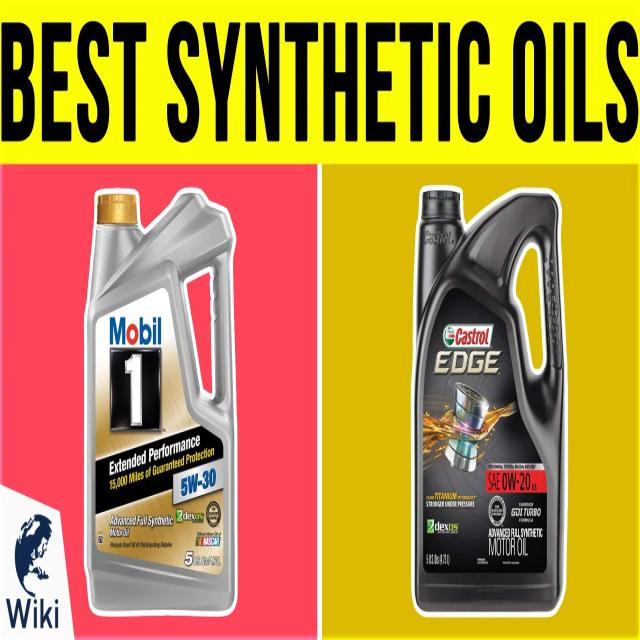motor_oil: (80, 186, 240, 618), (414, 180, 571, 612)
